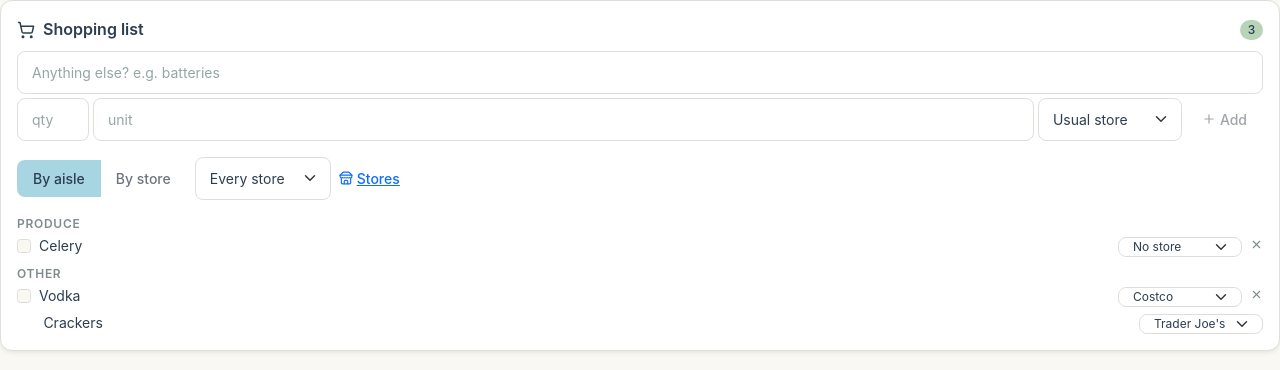
shows one store’s part of the list
Step 1. Select "No store yet" in the dropdown named "Show one store" → (263, 178), box [195,157,331,200]
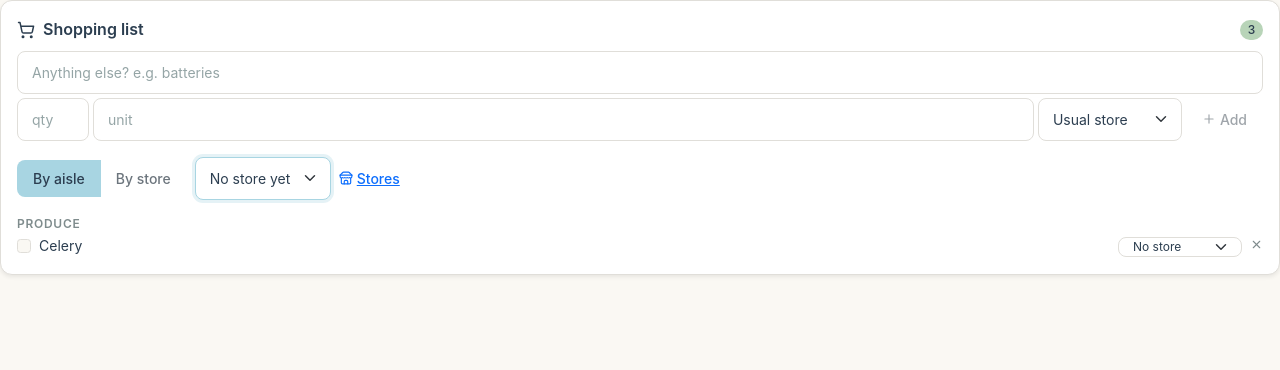
Expected: the text "Celery" is shown, [39,237,82,254]
Result: the text "Vodka" is gone
